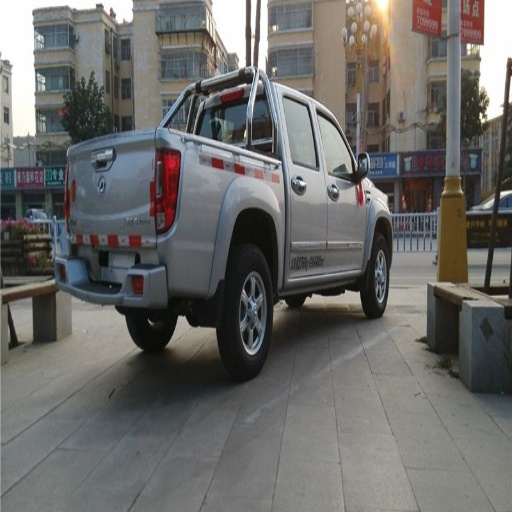back_bumper: (120, 267, 168, 304)
back_right_door: (277, 89, 326, 273)
trunk: (82, 131, 281, 297)
